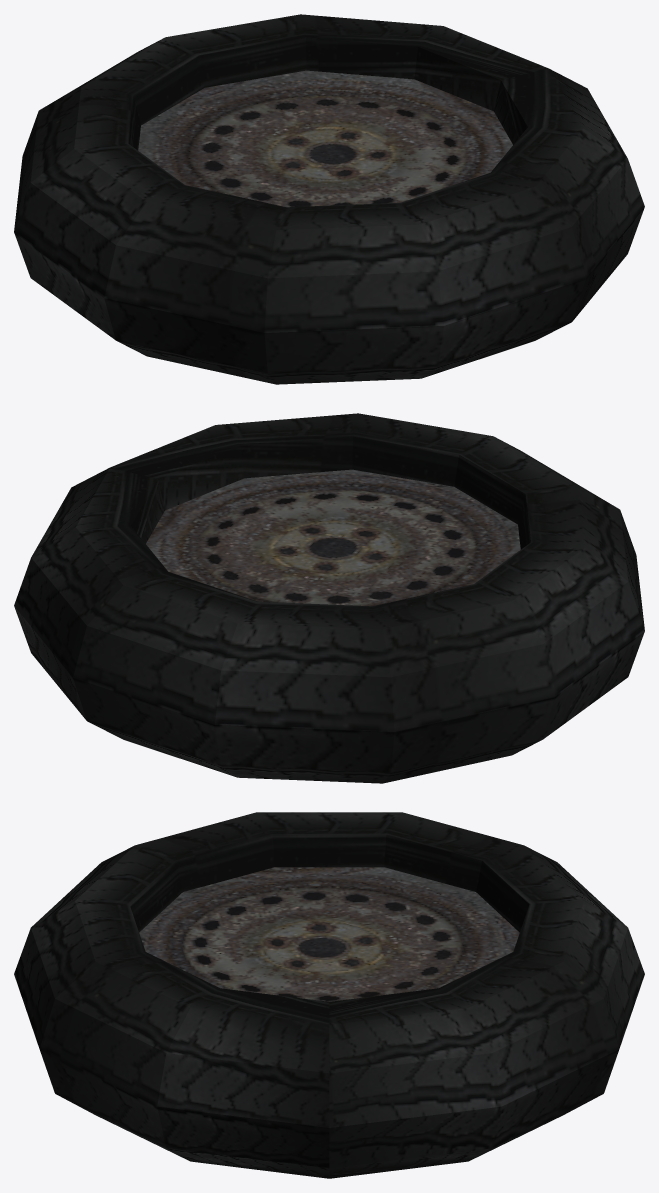
Rendered from tireWithRim.fbx.
3 renders of one model, top to bottom at view 1: azimuth 30°, elevation 25°; view 2: azimuth 150°, elevation 25°; view 3: azimuth 270°, elevation 25°, orthographic.
Visible parts, largest first — view 1: Torus.001, Torus.002; view 2: Torus.001, Torus.002; view 3: Torus.001, Torus.002.
Part boxes in pixels (<box>): Torus.001: <box>14,14,644,384</box>; Torus.002: <box>138,70,512,207</box>; Torus.001: <box>14,413,644,783</box>; Torus.002: <box>146,469,520,606</box>; Torus.001: <box>14,812,644,1178</box>; Torus.002: <box>139,867,519,1001</box>.
Bounding box in the file's own units: 231 × 62.77 × 234.
